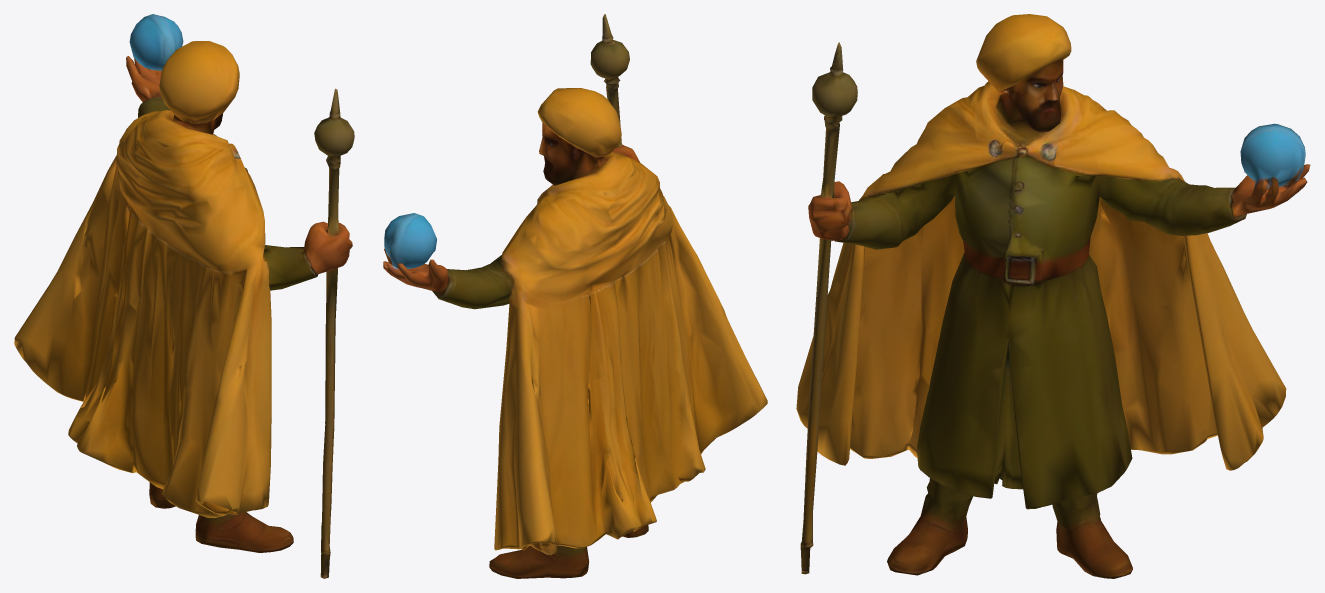
The picture shows the model from 3 angles, left to right: view 1: azimuth 30°, elevation 25°; view 2: azimuth 150°, elevation 25°; view 3: azimuth 270°, elevation 25°; orthographic projection. The views are drawn at different scales.
Visible parts, largest first — view 1: tripo_node_5ece4d0a-ce09-4349-834a-88adb1cb2f5a; view 2: tripo_node_5ece4d0a-ce09-4349-834a-88adb1cb2f5a; view 3: tripo_node_5ece4d0a-ce09-4349-834a-88adb1cb2f5a.
Boxes of the visible parts, x1,y1,x2,y2 form: tripo_node_5ece4d0a-ce09-4349-834a-88adb1cb2f5a: (14, 14, 354, 578); tripo_node_5ece4d0a-ce09-4349-834a-88adb1cb2f5a: (383, 14, 767, 578); tripo_node_5ece4d0a-ce09-4349-834a-88adb1cb2f5a: (796, 14, 1310, 578).
Size of the model in its own units: 0.4166 by 0.9998 by 0.8528.
1 material, 1 textured.
